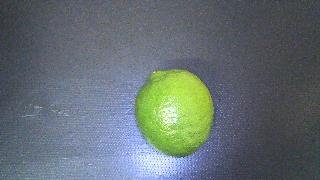EXPORTACION: (135, 69, 214, 157)
